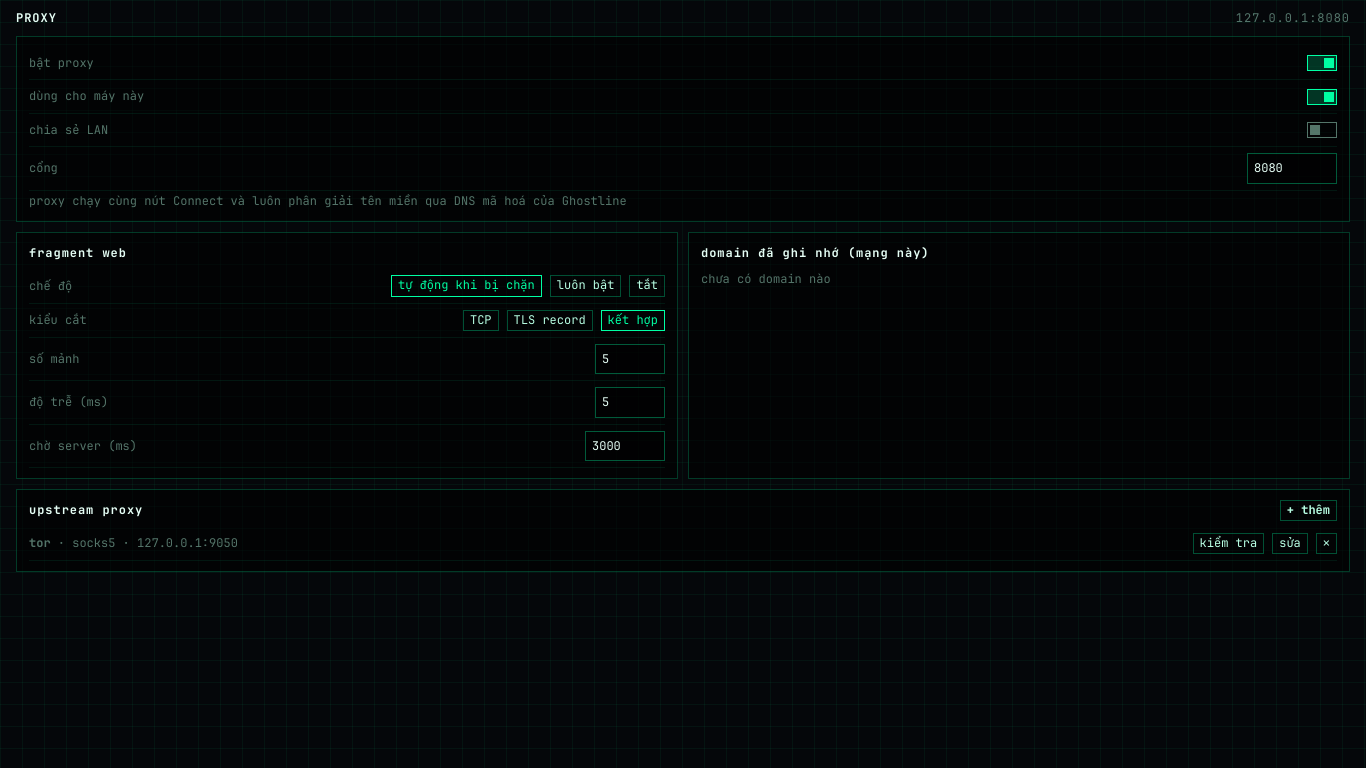
it: upstream test reports the result
Click the button with aria-label "kiểm tra tor" at (1228, 544), box [1193, 533, 1264, 554]
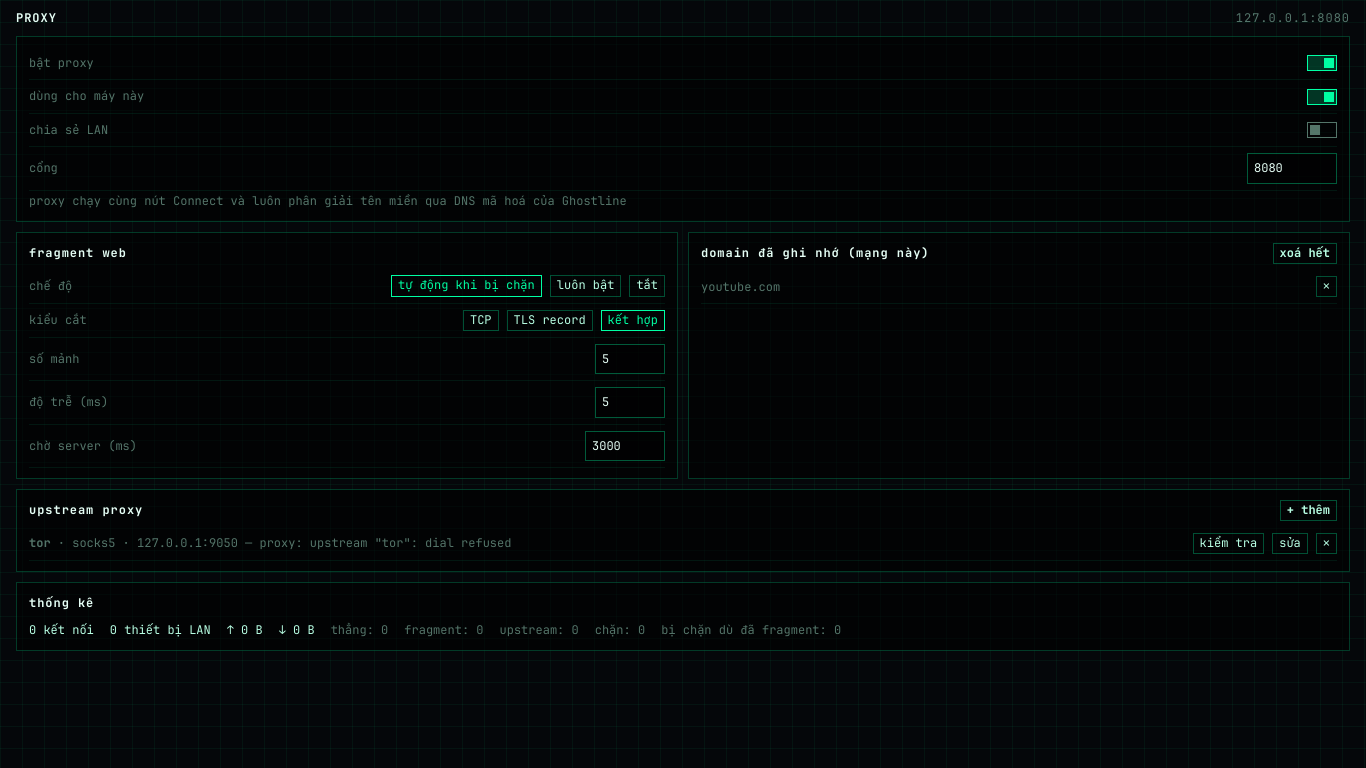
Expected: the text "— proxy: upstream \"tor\": dial refused" is shown, [238, 536, 511, 552]
